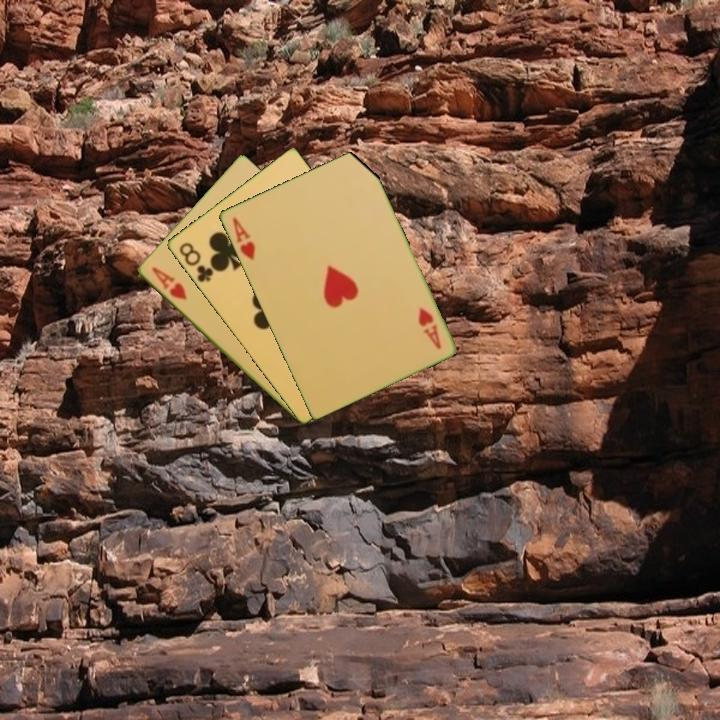8c: (175, 239, 216, 285)
Ah: (147, 263, 190, 303), (414, 303, 444, 352), (229, 213, 258, 263)
